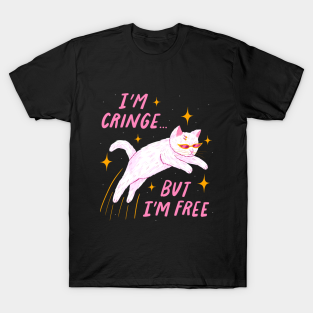design: (96, 90, 216, 223)
